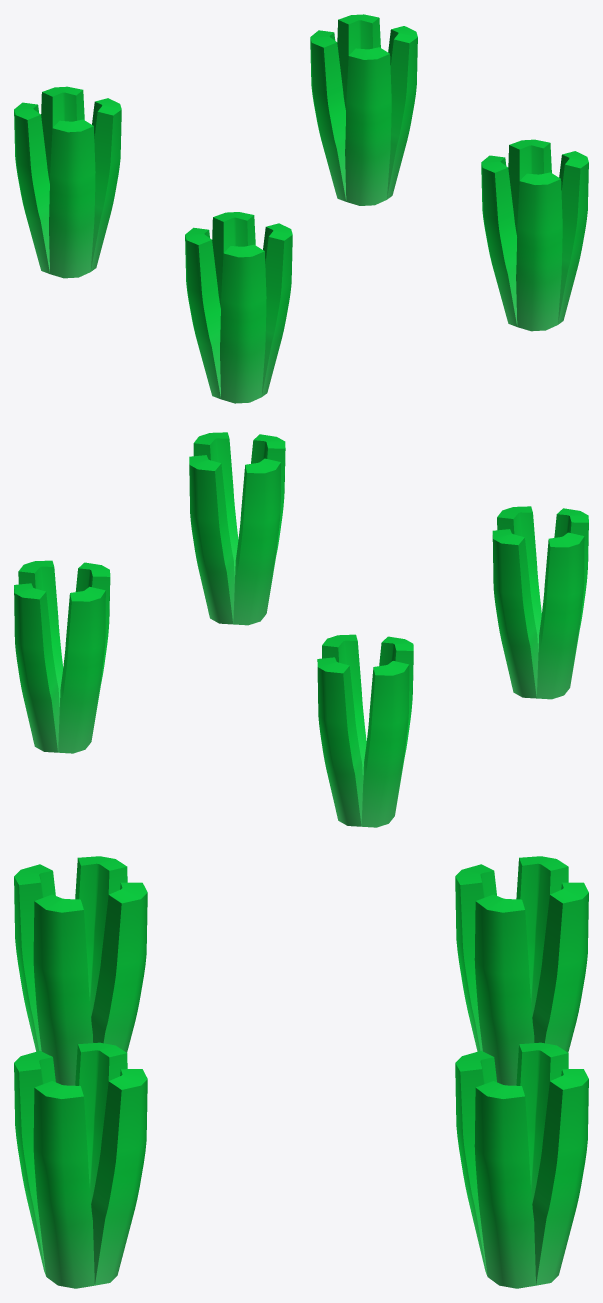
File: Farm_Crop_Leek_Step_02.fbx
The picture shows the model from 3 angles, top to bottom: view 1: azimuth 30°, elevation 25°; view 2: azimuth 150°, elevation 25°; view 3: azimuth 270°, elevation 25°; orthographic projection. The views are drawn at different scales.
Visible parts, largest first — view 1: Farm_Crop_Leek_Step_02; view 2: Farm_Crop_Leek_Step_02; view 3: Farm_Crop_Leek_Step_02.
Part boxes in pixels (x1=…): Farm_Crop_Leek_Step_02: x1=14, y1=14, x2=588, y2=403; Farm_Crop_Leek_Step_02: x1=14, y1=432, x2=588, y2=827; Farm_Crop_Leek_Step_02: x1=14, y1=856, x2=588, y2=1288.
Bounding box in the file's own units: 130 × 51.38 × 130.
